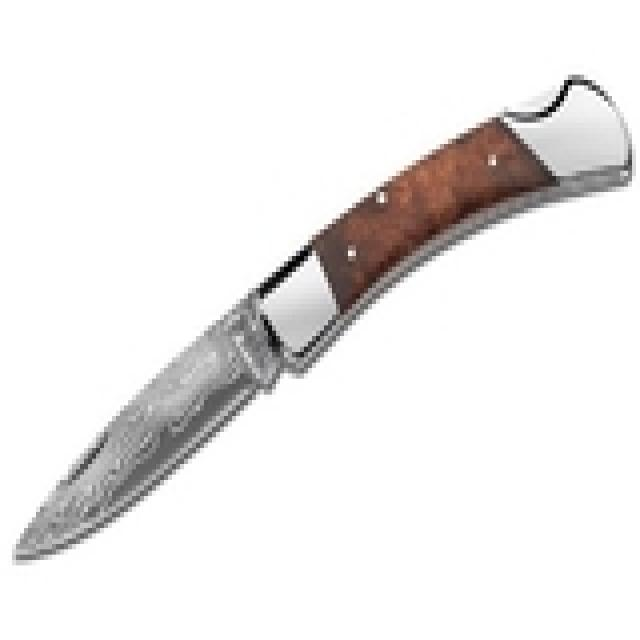Knife: (12, 61, 627, 566)
